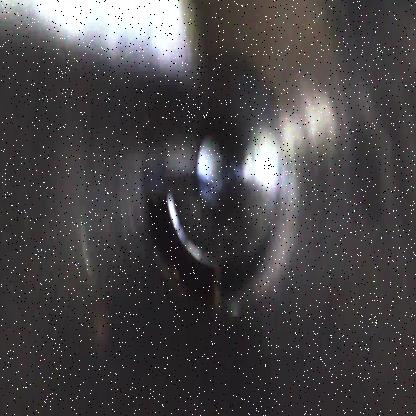Crack2: (140, 193, 218, 311)
